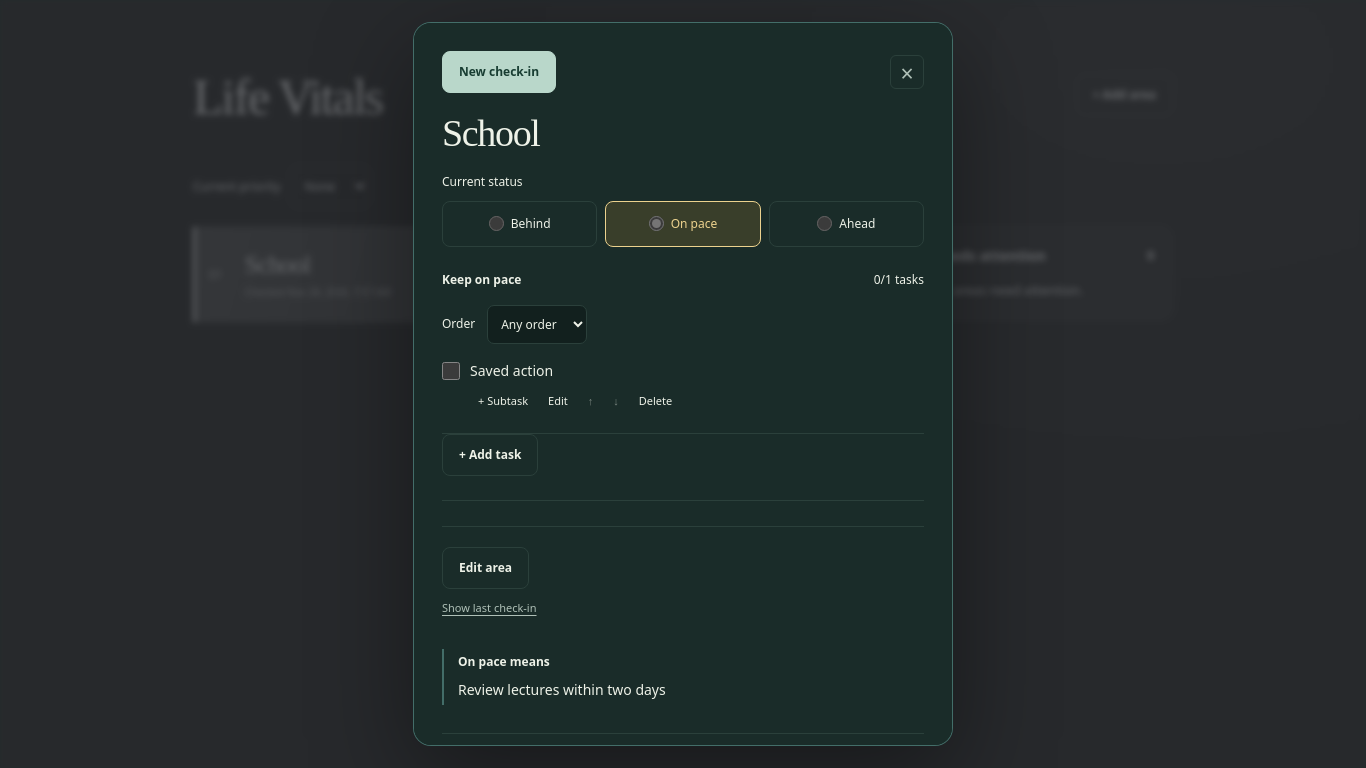
Test: reopens on-pace with its saved checklist and separates new check-ins
This screenshot has width=1366, height=768.
Earlier steps of the test are not shown.
What coordinates should you click on to do the following:
click the checkbox named "Complete Saved action"
I would click on:
 (451, 371)
Its box is [442,362,460,380].
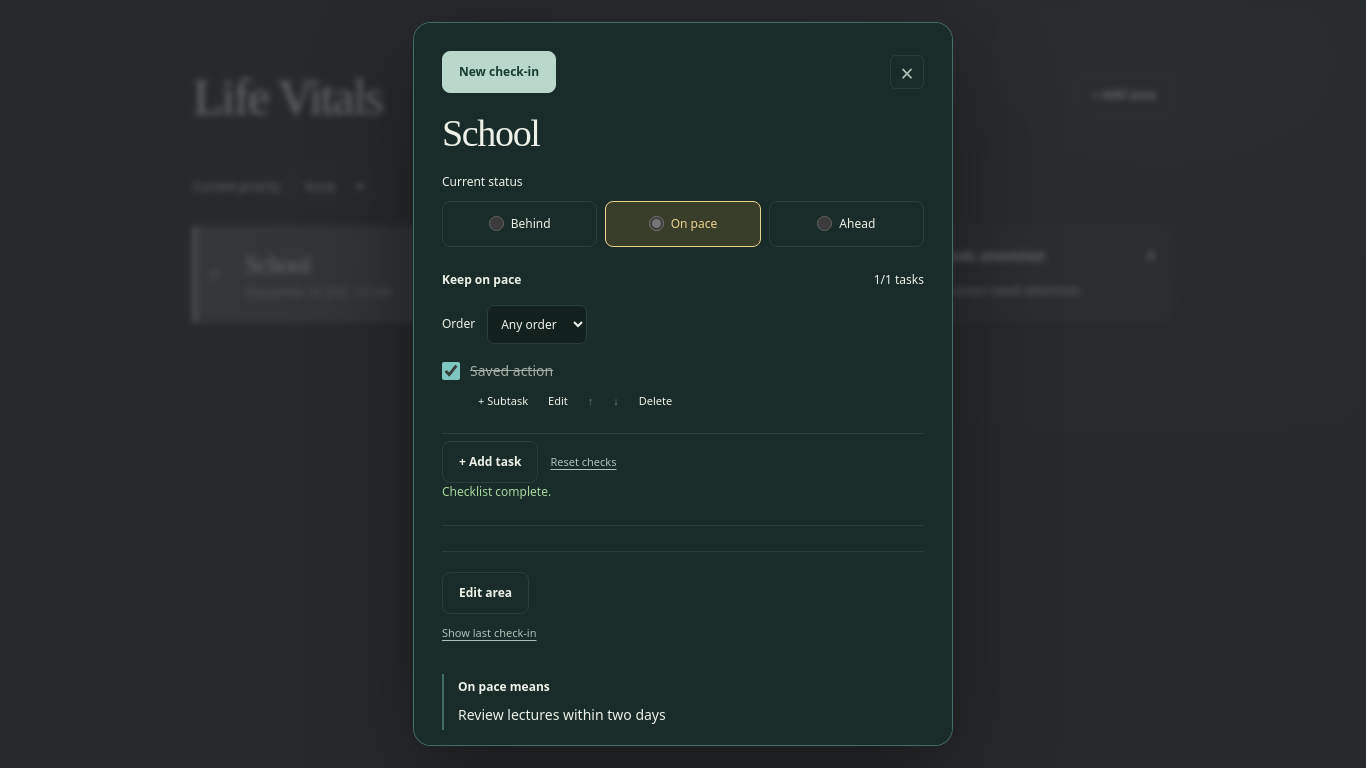
What coordinates should you click on to do the following:
click the button "New check-in"
I would click on:
 (499, 72)
Its box is [442,51,556,93].
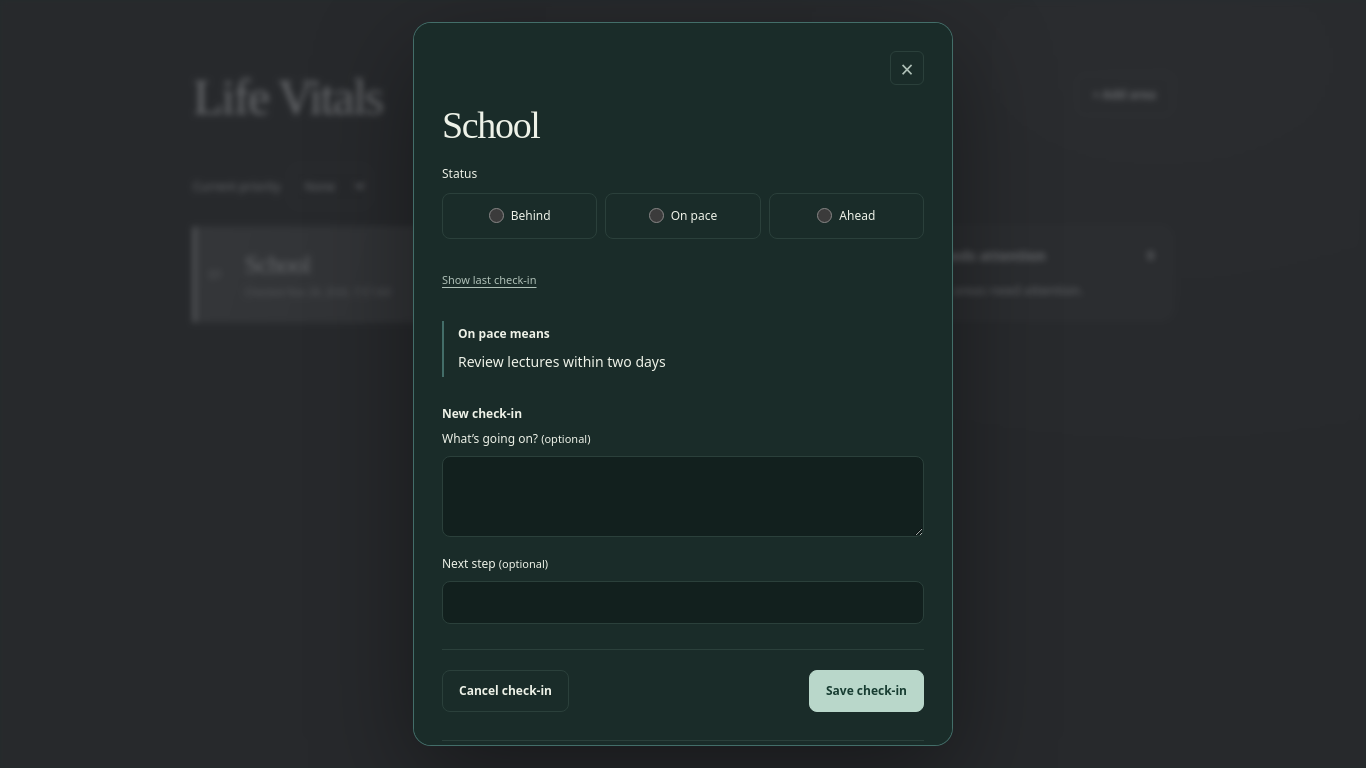
Now the element with class "lv-checklist" is gone
What coordinates should you click on to do the following:
click the radio button labelled "Behind"
I would click on:
 (496, 216)
Its box is [489,208,504,223].
(page scrolled)
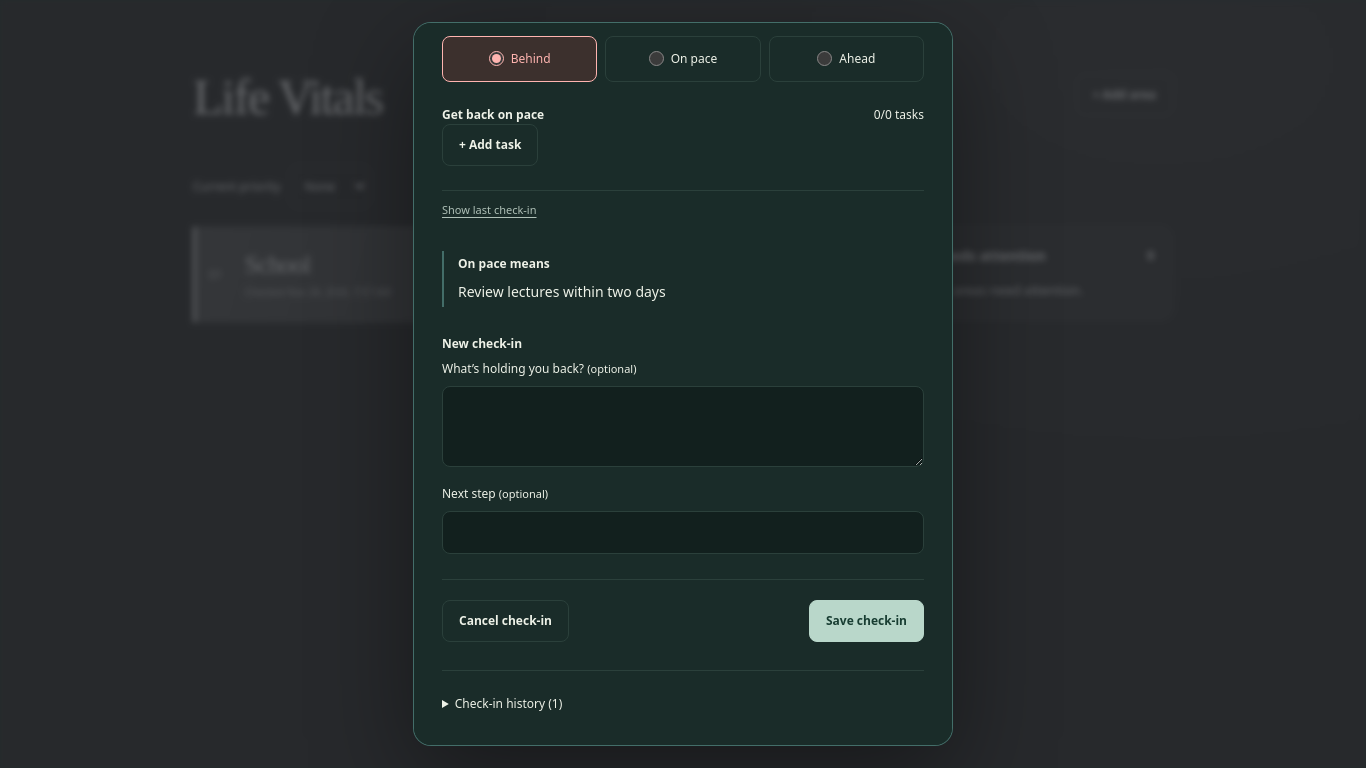
Now the element with class "lv-checklist" is shown, box [442,106,924,191]
What coordinates should you click on to do the following:
click the button "Cancel check-in"
I would click on:
 (506, 621)
Its box is [442,600,569,642].
(page scrolled)
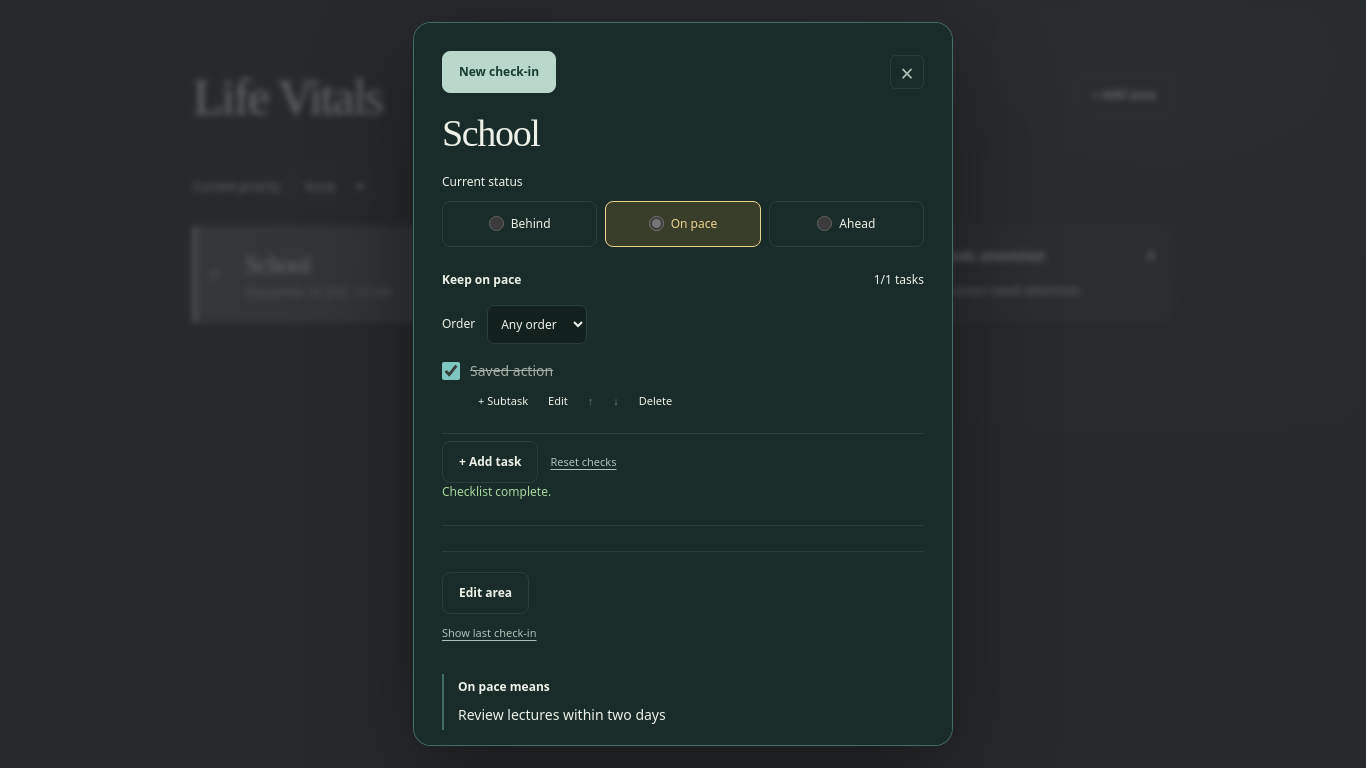
Now the checkbox named "Complete Saved action" is checked, box [442,362,460,380]
What coordinates should you click on to do the following:
click the button "×"
I would click on:
 (907, 72)
Its box is [890,55,924,89].
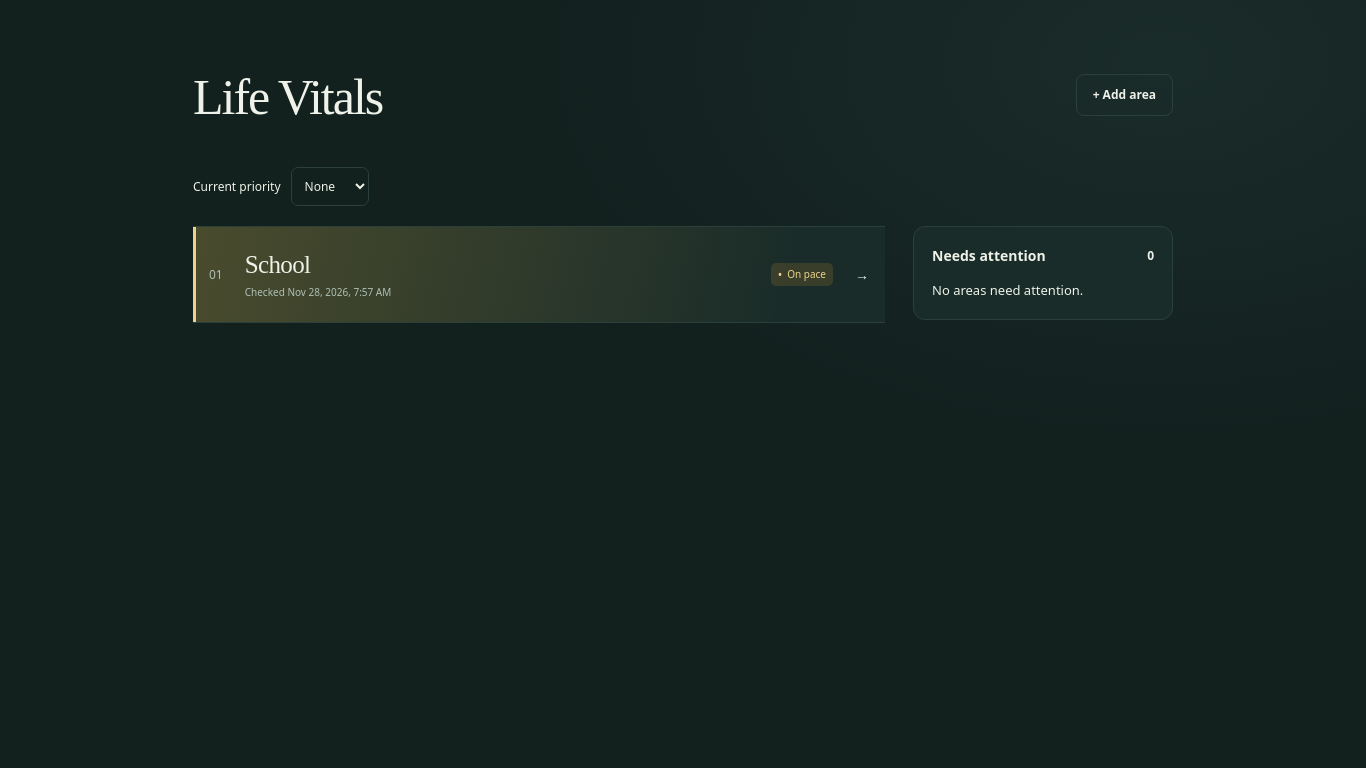
What coordinates should you click on to do the following:
click the button "01 School Checked Nov 28, 2026, 7:57 AM • On pace →"
I would click on:
 (278, 264)
Its box is [193,227,885,323].
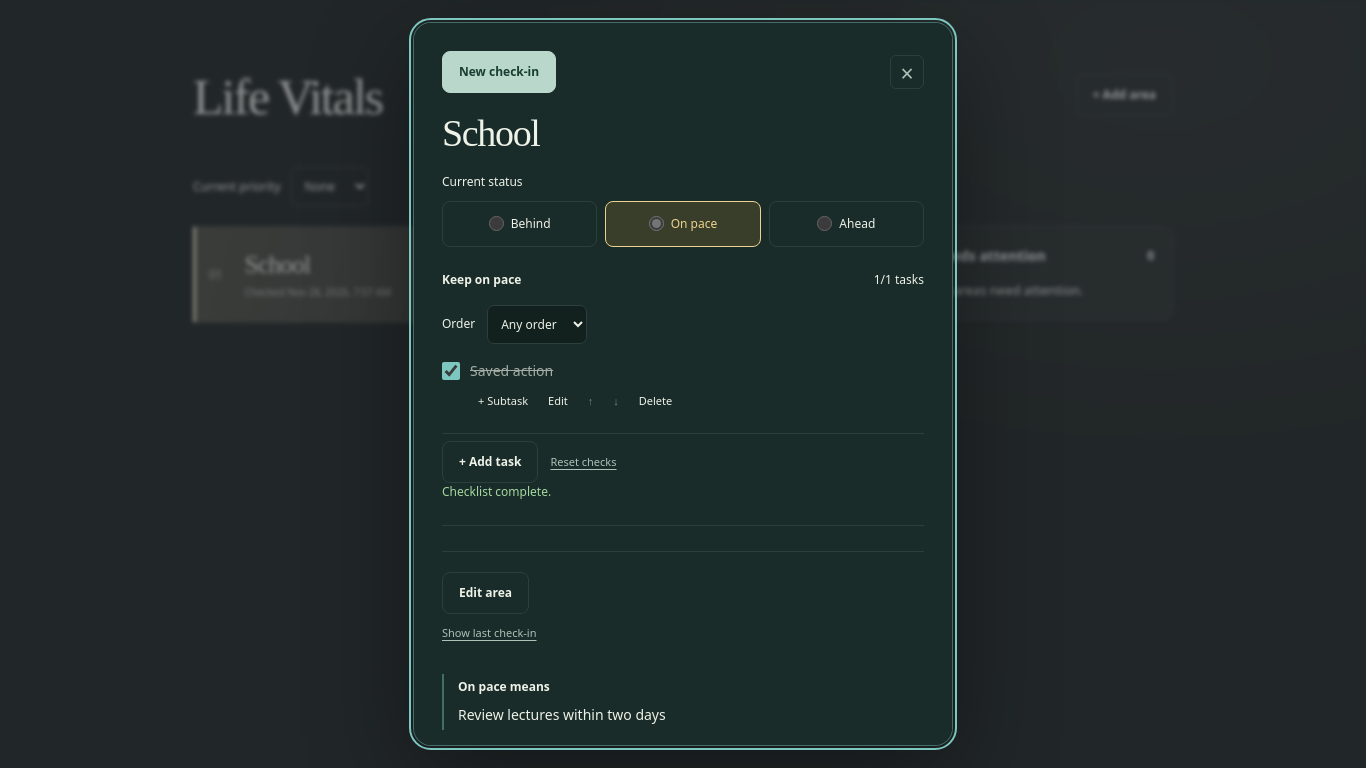
Now the checkbox named "Complete Saved action" is checked, box [442,362,460,380]
